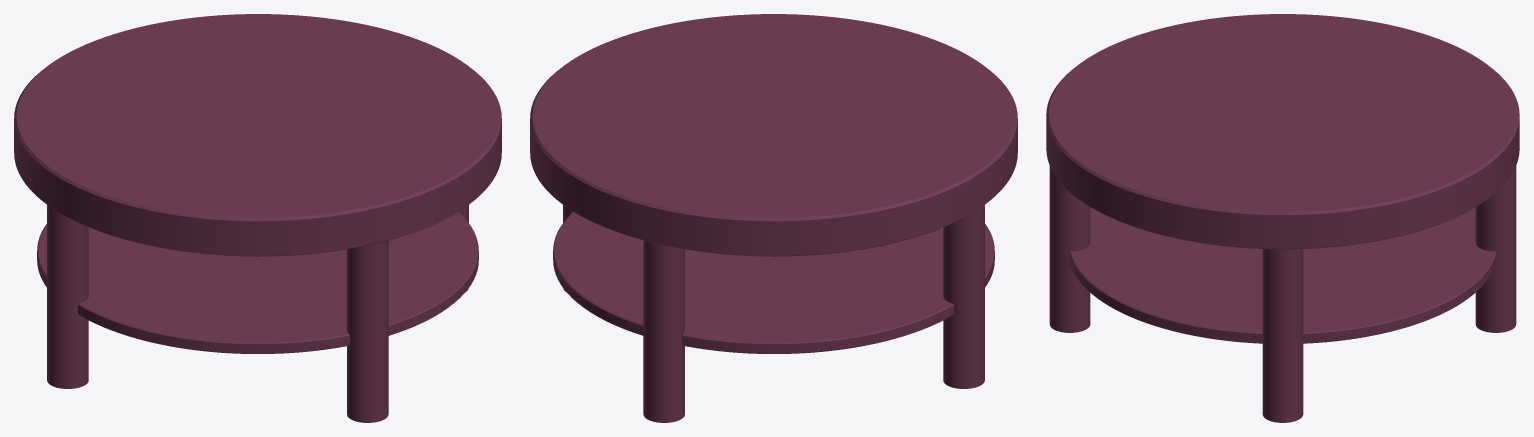
File: Table_v1.fbx
3 views of the same model, side by side, from view 1: azimuth 30°, elevation 25°; view 2: azimuth 150°, elevation 25°; view 3: azimuth 270°, elevation 25° (orthographic). The views are drawn at different scales.
Parts seen in each view (by area): view 1: NGon007, NGon008, Cylinder019, Cylinder017; view 2: NGon007, NGon008, Cylinder018, Cylinder017; view 3: NGon007, NGon008, Cylinder016, Cylinder018, Cylinder019.
Boxes of the visible parts, x1,y1,x2,y2 form: NGon007: (14,14,501,256); NGon008: (37,212,478,353); Cylinder019: (347,240,388,422); Cylinder017: (47,205,88,388); NGon007: (530,14,1017,256); NGon008: (553,212,994,353); Cylinder018: (643,240,684,422); Cylinder017: (943,205,984,388); NGon007: (1046,14,1519,249); NGon008: (1069,207,1496,343); Cylinder016: (1262,249,1303,422); Cylinder018: (1475,166,1516,332); Cylinder019: (1049,166,1090,332).
Bounding box in the file's own units: 70 × 35 × 70.
